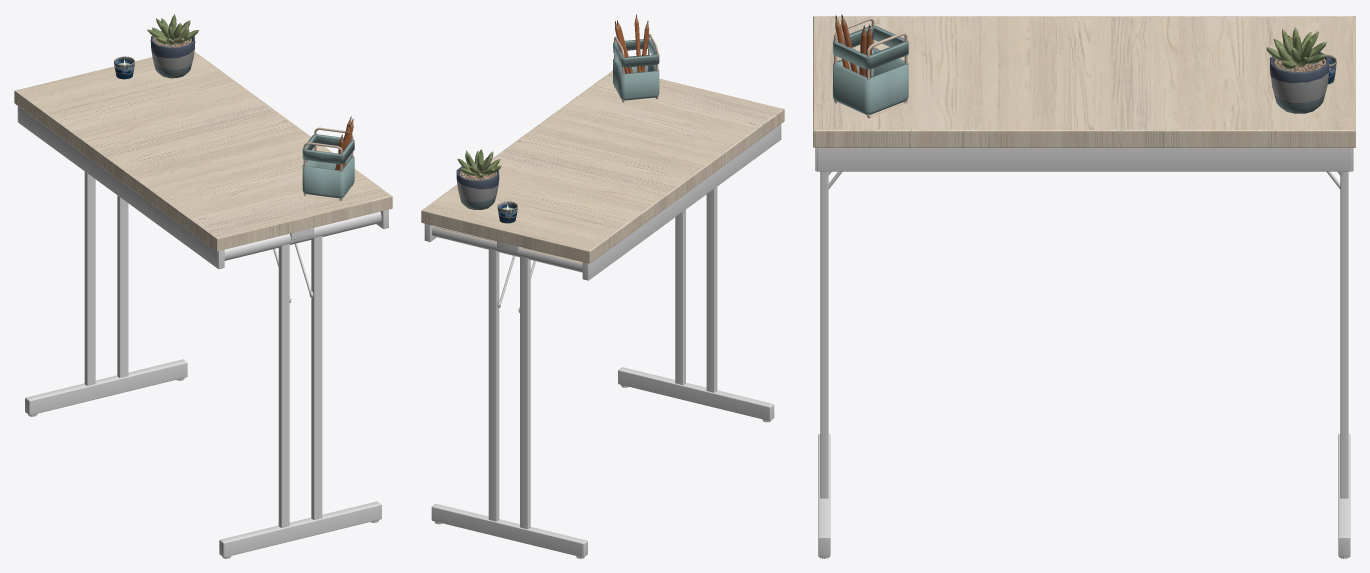
Rendered from updatedDeskComp.glb.
The picture shows the model from 3 angles, left to right: view 1: azimuth 30°, elevation 25°; view 2: azimuth 150°, elevation 25°; view 3: azimuth 270°, elevation 25°; orthographic projection. The views are drawn at different scales.
Visible parts, largest first — view 1: desk_surface, desk_legs, Cube, G-cactus_gasteria_1; view 2: desk_surface, desk_legs, Cube, G-cactus_gasteria_1, Cylinder.001; view 3: desk_surface, desk_legs, Cube, G-cactus_gasteria_1, Cylinder.001.
Boxes of the visible parts, x1=… form: desk_surface: x1=15, y1=51, x2=392, y2=251; desk_legs: x1=14, y1=90, x2=388, y2=558; Cube: x1=302, y1=134, x2=354, y2=198; G-cactus_gasteria_1: x1=147, y1=14, x2=198, y2=78; desk_surface: x1=421, y1=70, x2=784, y2=263; desk_legs: x1=423, y1=108, x2=782, y2=558; Cube: x1=613, y1=39, x2=659, y2=100; G-cactus_gasteria_1: x1=456, y1=149, x2=501, y2=209; Cylinder.001: x1=615, y1=14, x2=649, y2=73; desk_surface: x1=813, y1=16, x2=1355, y2=147; desk_legs: x1=814, y1=16, x2=1355, y2=558; Cube: x1=833, y1=26, x2=908, y2=114; G-cactus_gasteria_1: x1=1266, y1=27, x2=1329, y2=113; Cylinder.001: x1=835, y1=14, x2=872, y2=77.
Bounding box in the file's own units: 0.5 × 1.08 × 1.
Materials: 15 (9 with a texture image).
